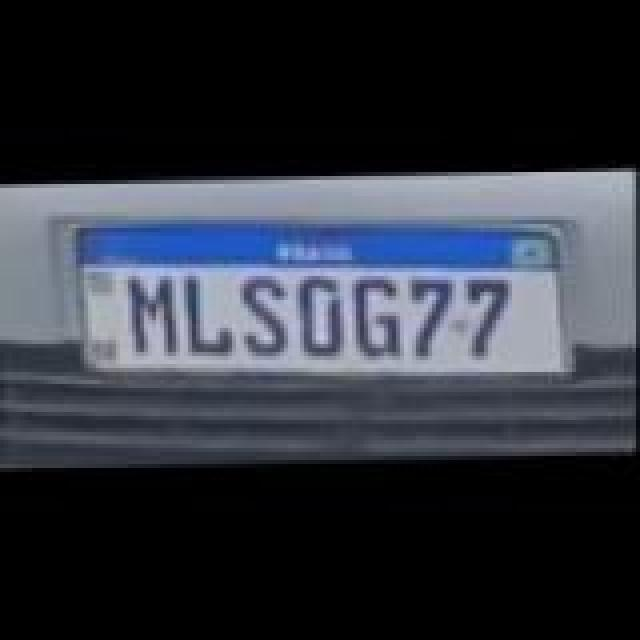7: (406, 276, 462, 356), (462, 274, 518, 354)
D: (292, 272, 352, 356)
G: (350, 272, 406, 352)
L: (182, 272, 238, 352)
M: (128, 272, 188, 356)
S: (242, 270, 298, 350)
